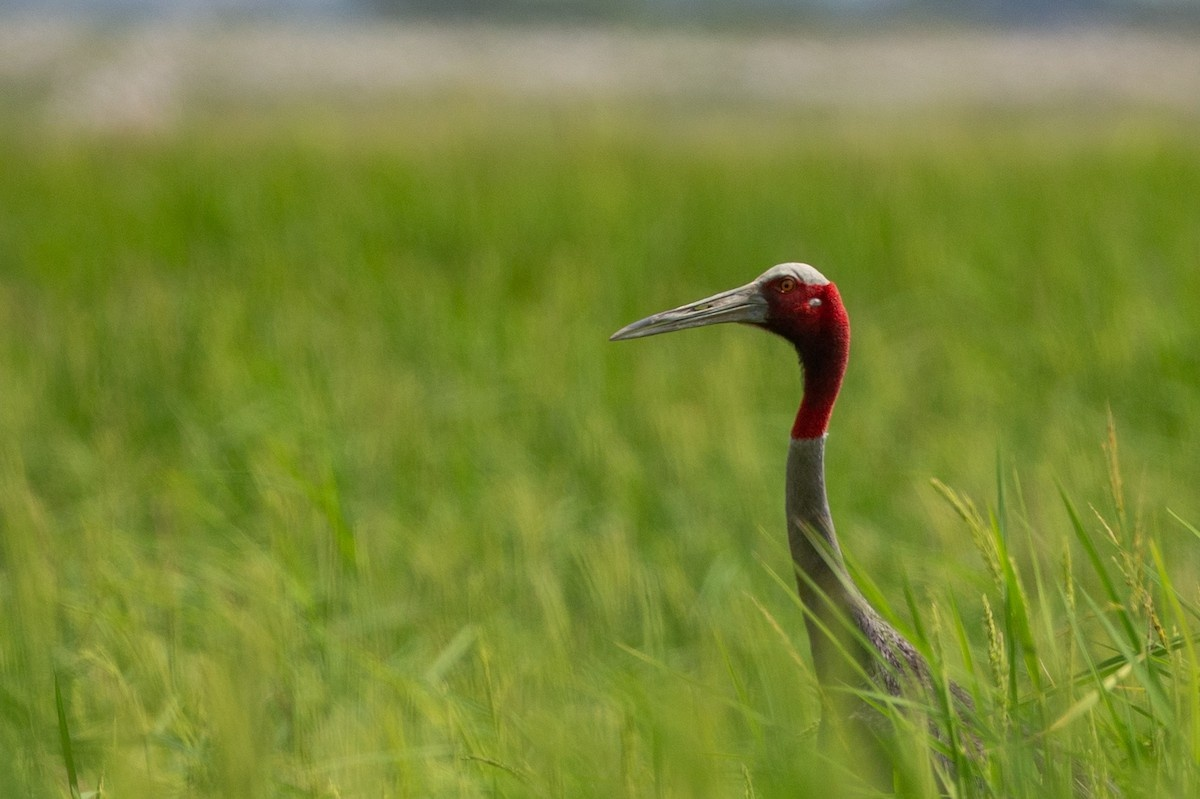crane: (606, 242, 909, 630)
